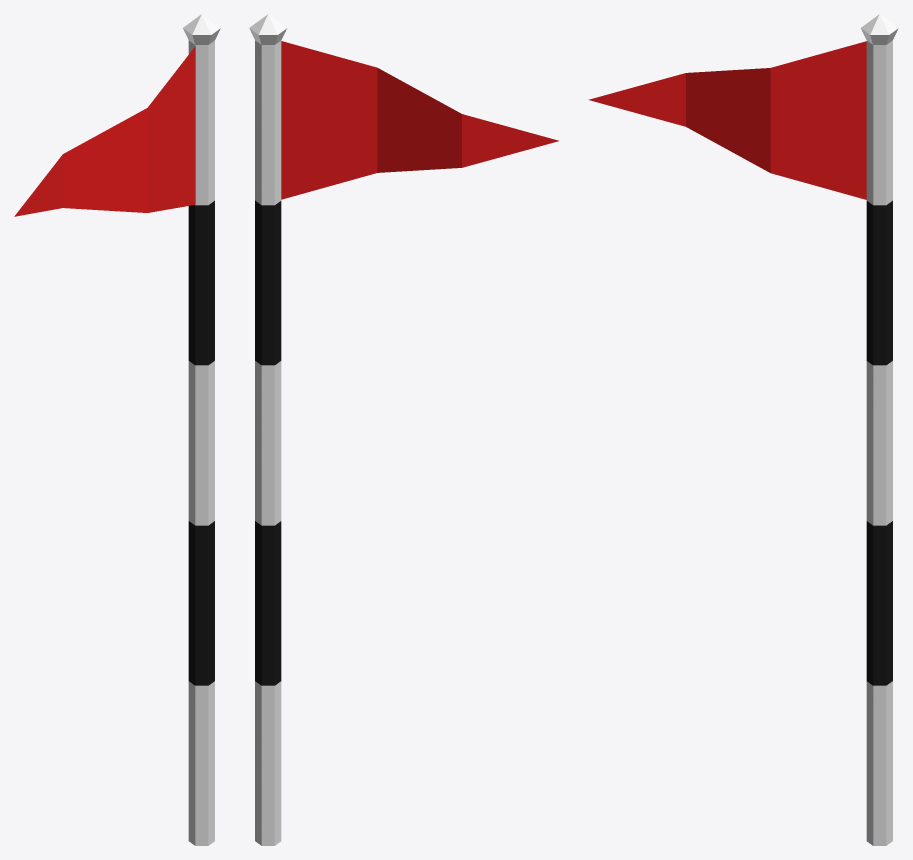
Rendered from golfFlag (1).fbx.
3 renders of one model, left to right at view 1: azimuth 30°, elevation 25°; view 2: azimuth 150°, elevation 25°; view 3: azimuth 330°, elevation 25°, orthographic.
Visible parts, largest first — view 1: golf-flag_01, golf-flag_01-2; view 2: golf-flag_01, golf-flag_01-2; view 3: golf-flag_01, golf-flag_01-2.
Part boxes in pixels (x1,y1,x2,y2): golf-flag_01: (183,14,220,845); golf-flag_01-2: (14,46,195,216); golf-flag_01: (249,14,286,845); golf-flag_01-2: (281,41,558,199); golf-flag_01: (861,14,898,845); golf-flag_01-2: (588,41,866,199).
Size of the model in its own units: 2.66 by 8.26 by 1.11.
